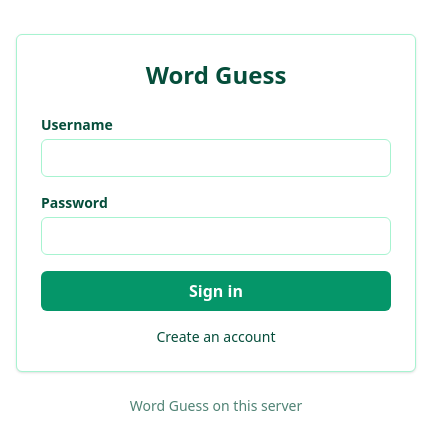
Test case: AuthScreen › shows a login error without displaying the password
Type "ada" into the field labelled "Username". click: (216, 158)
box: x1=41 y1=139 x2=391 y2=177
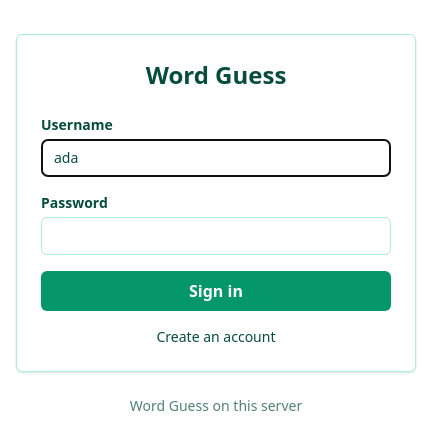
Type "secret-pass" into the password field labelled "Password". click: (216, 236)
box: x1=41 y1=217 x2=391 y2=255
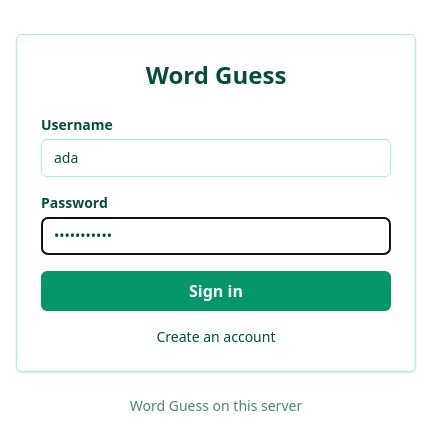
Click the button "Sign in". click: click(216, 291)
box: x1=41 y1=271 x2=391 y2=311
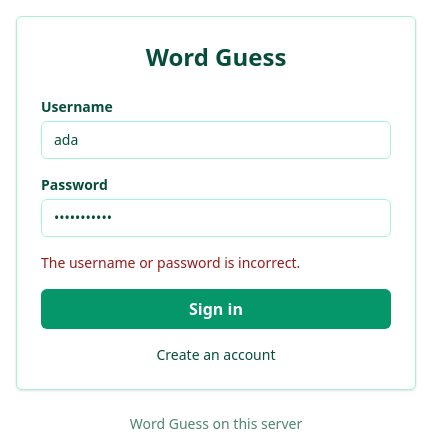
Check: the message reads "The username or password is incorrect.", box x1=41 y1=253 x2=300 y2=272
